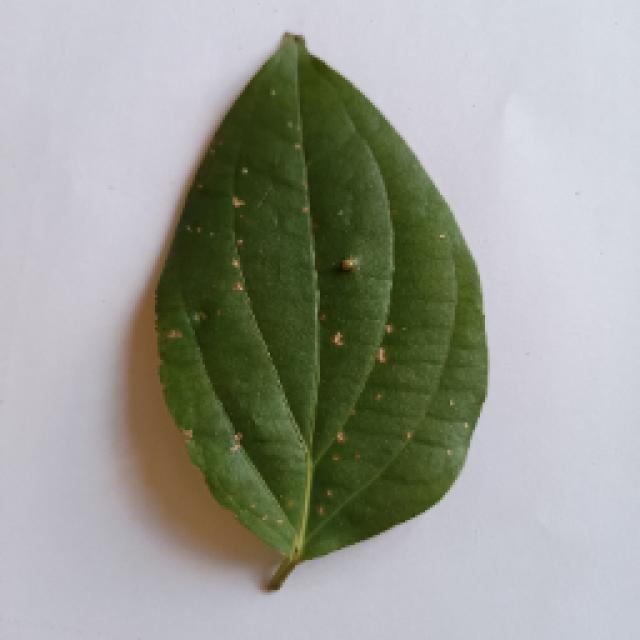pollu-disease: (152, 30, 482, 585)
